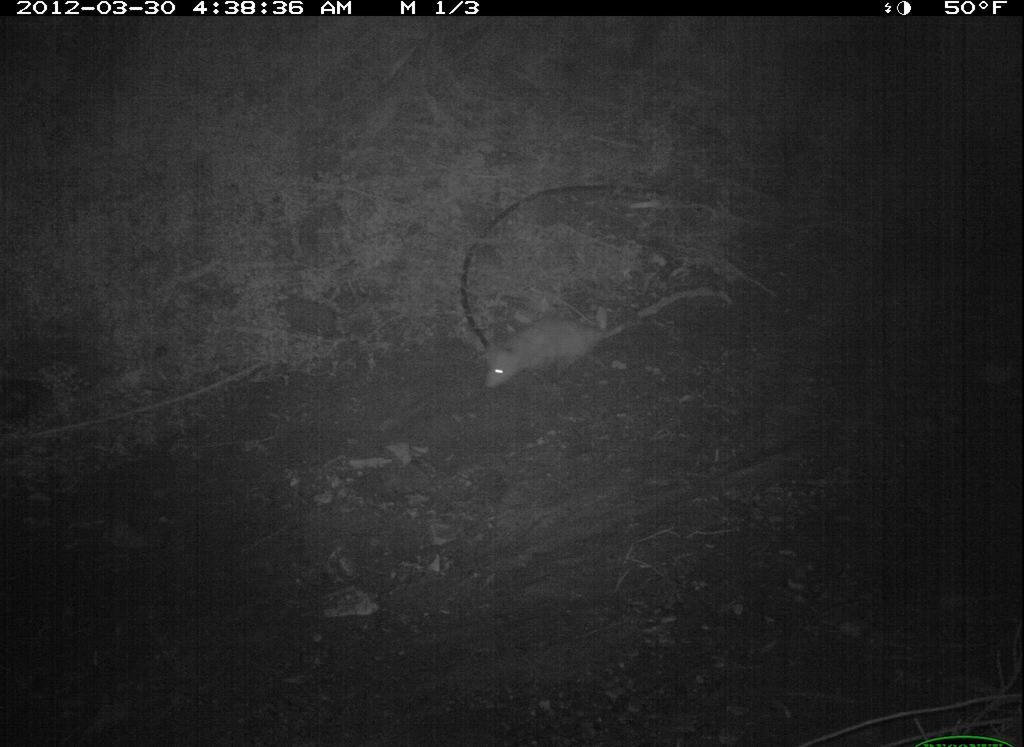opossum: (460, 309, 633, 396)
